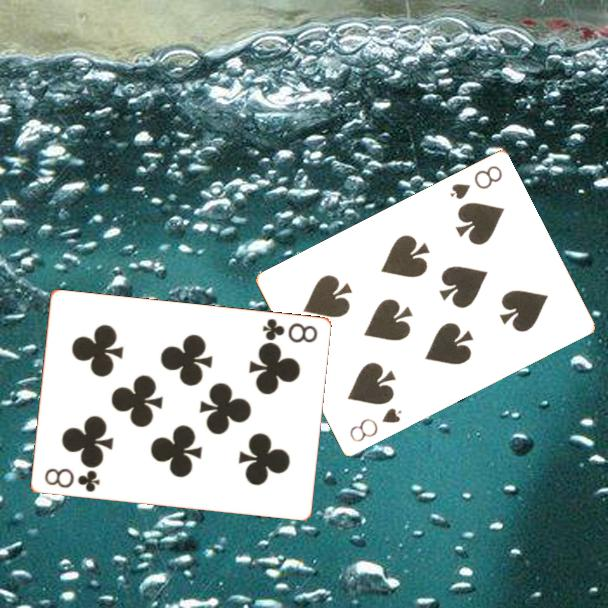c08: (258, 315, 320, 346), (41, 465, 102, 495)
s08: (446, 162, 505, 203), (346, 405, 405, 445)
